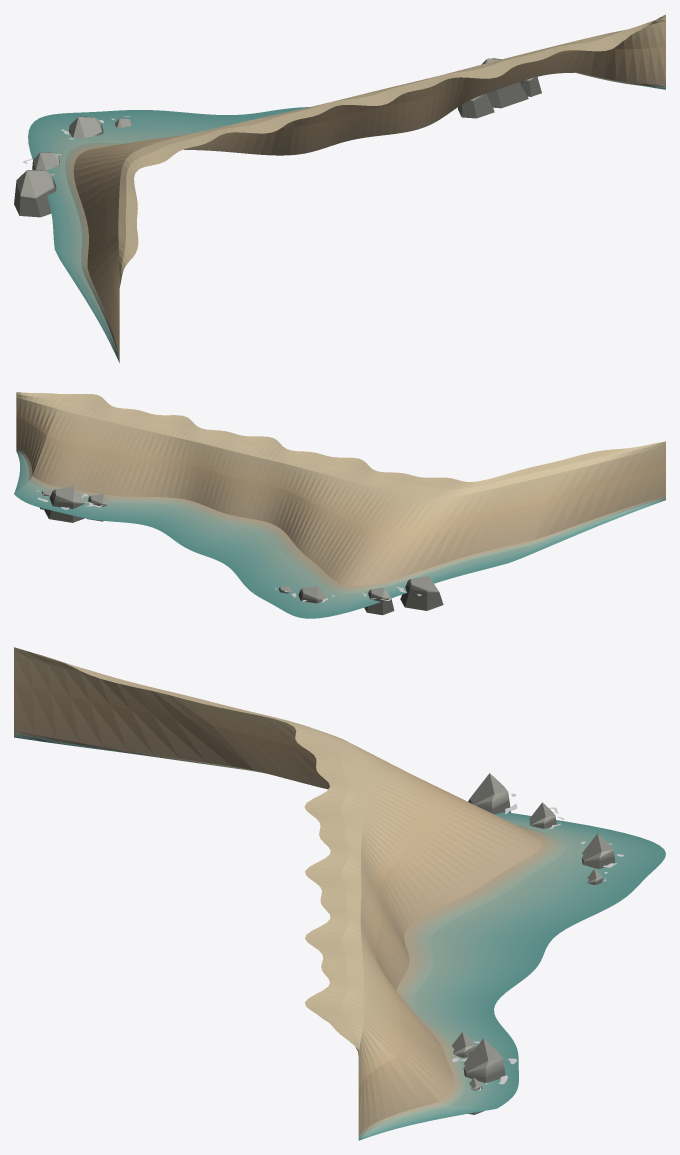
The model's file is CoveShoulder.fbx.
3 views of the same model, one above another, from view 1: azimuth 30°, elevation 25°; view 2: azimuth 150°, elevation 25°; view 3: azimuth 270°, elevation 25° (orthographic). The views are drawn at different scales.
Parts seen in each view (by area): view 1: SandShelf, Reef0, Reef5, Reef4, Reef2; view 2: SandShelf, Reef0, Reef5, Reef1, Reef2; view 3: SandShelf, Reef5, Reef0, Reef2.
Boxes of the visible parts, <box> form: SandShelf: <box>28,14,665,362</box>; Reef0: <box>14,169,56,217</box>; Reef5: <box>481,58,528,108</box>; Reef4: <box>458,93,494,118</box>; Reef2: <box>69,116,103,138</box>; SandShelf: <box>14,392,665,618</box>; Reef0: <box>400,576,443,610</box>; Reef5: <box>44,486,85,522</box>; Reef1: <box>364,587,394,615</box>; Reef2: <box>298,586,326,603</box>; SandShelf: <box>14,647,665,1140</box>; Reef5: <box>463,1038,505,1082</box>; Reef0: <box>468,773,510,814</box>; Reef2: <box>581,833,615,868</box>.
Bounding box in the file's own units: 126 × 16 × 86.27.
